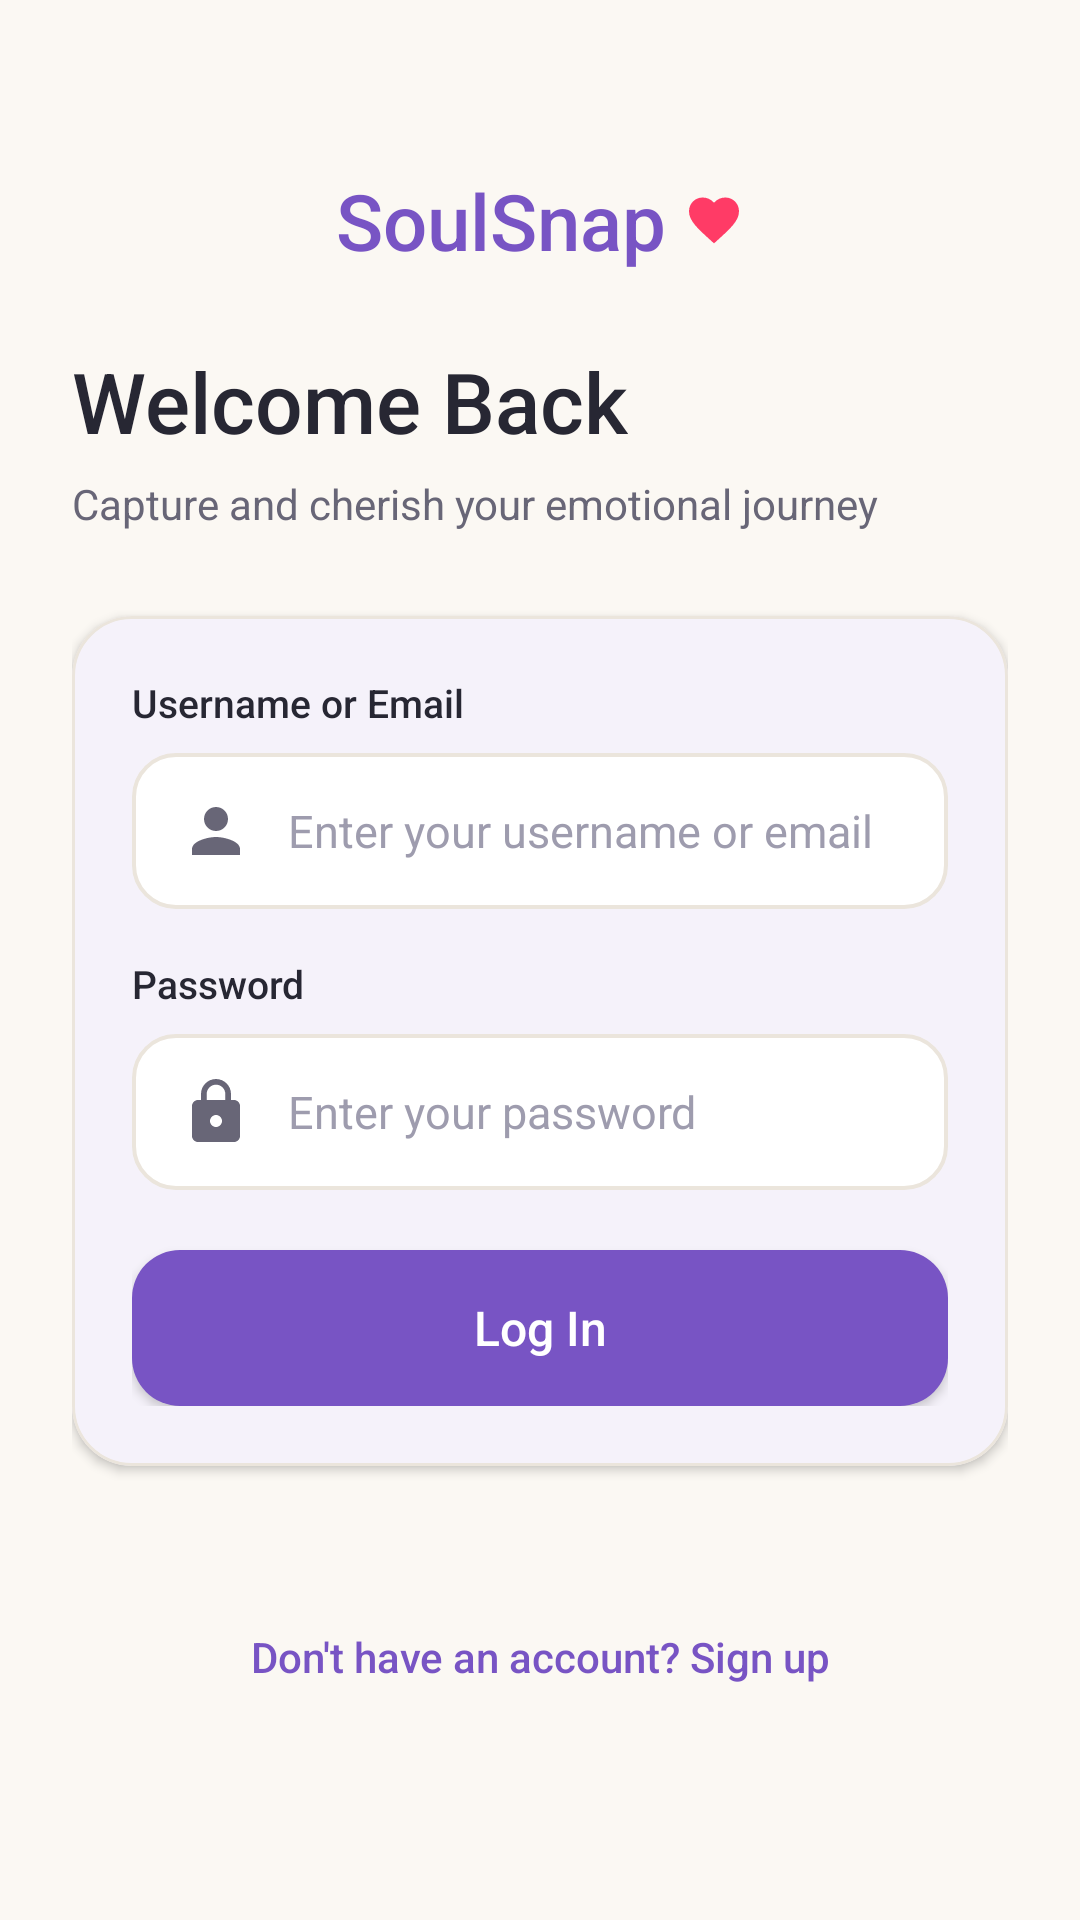

Where to tap for icons on this 1080w x 1920h app screen, as (x,y):
Heart: (714,220)
